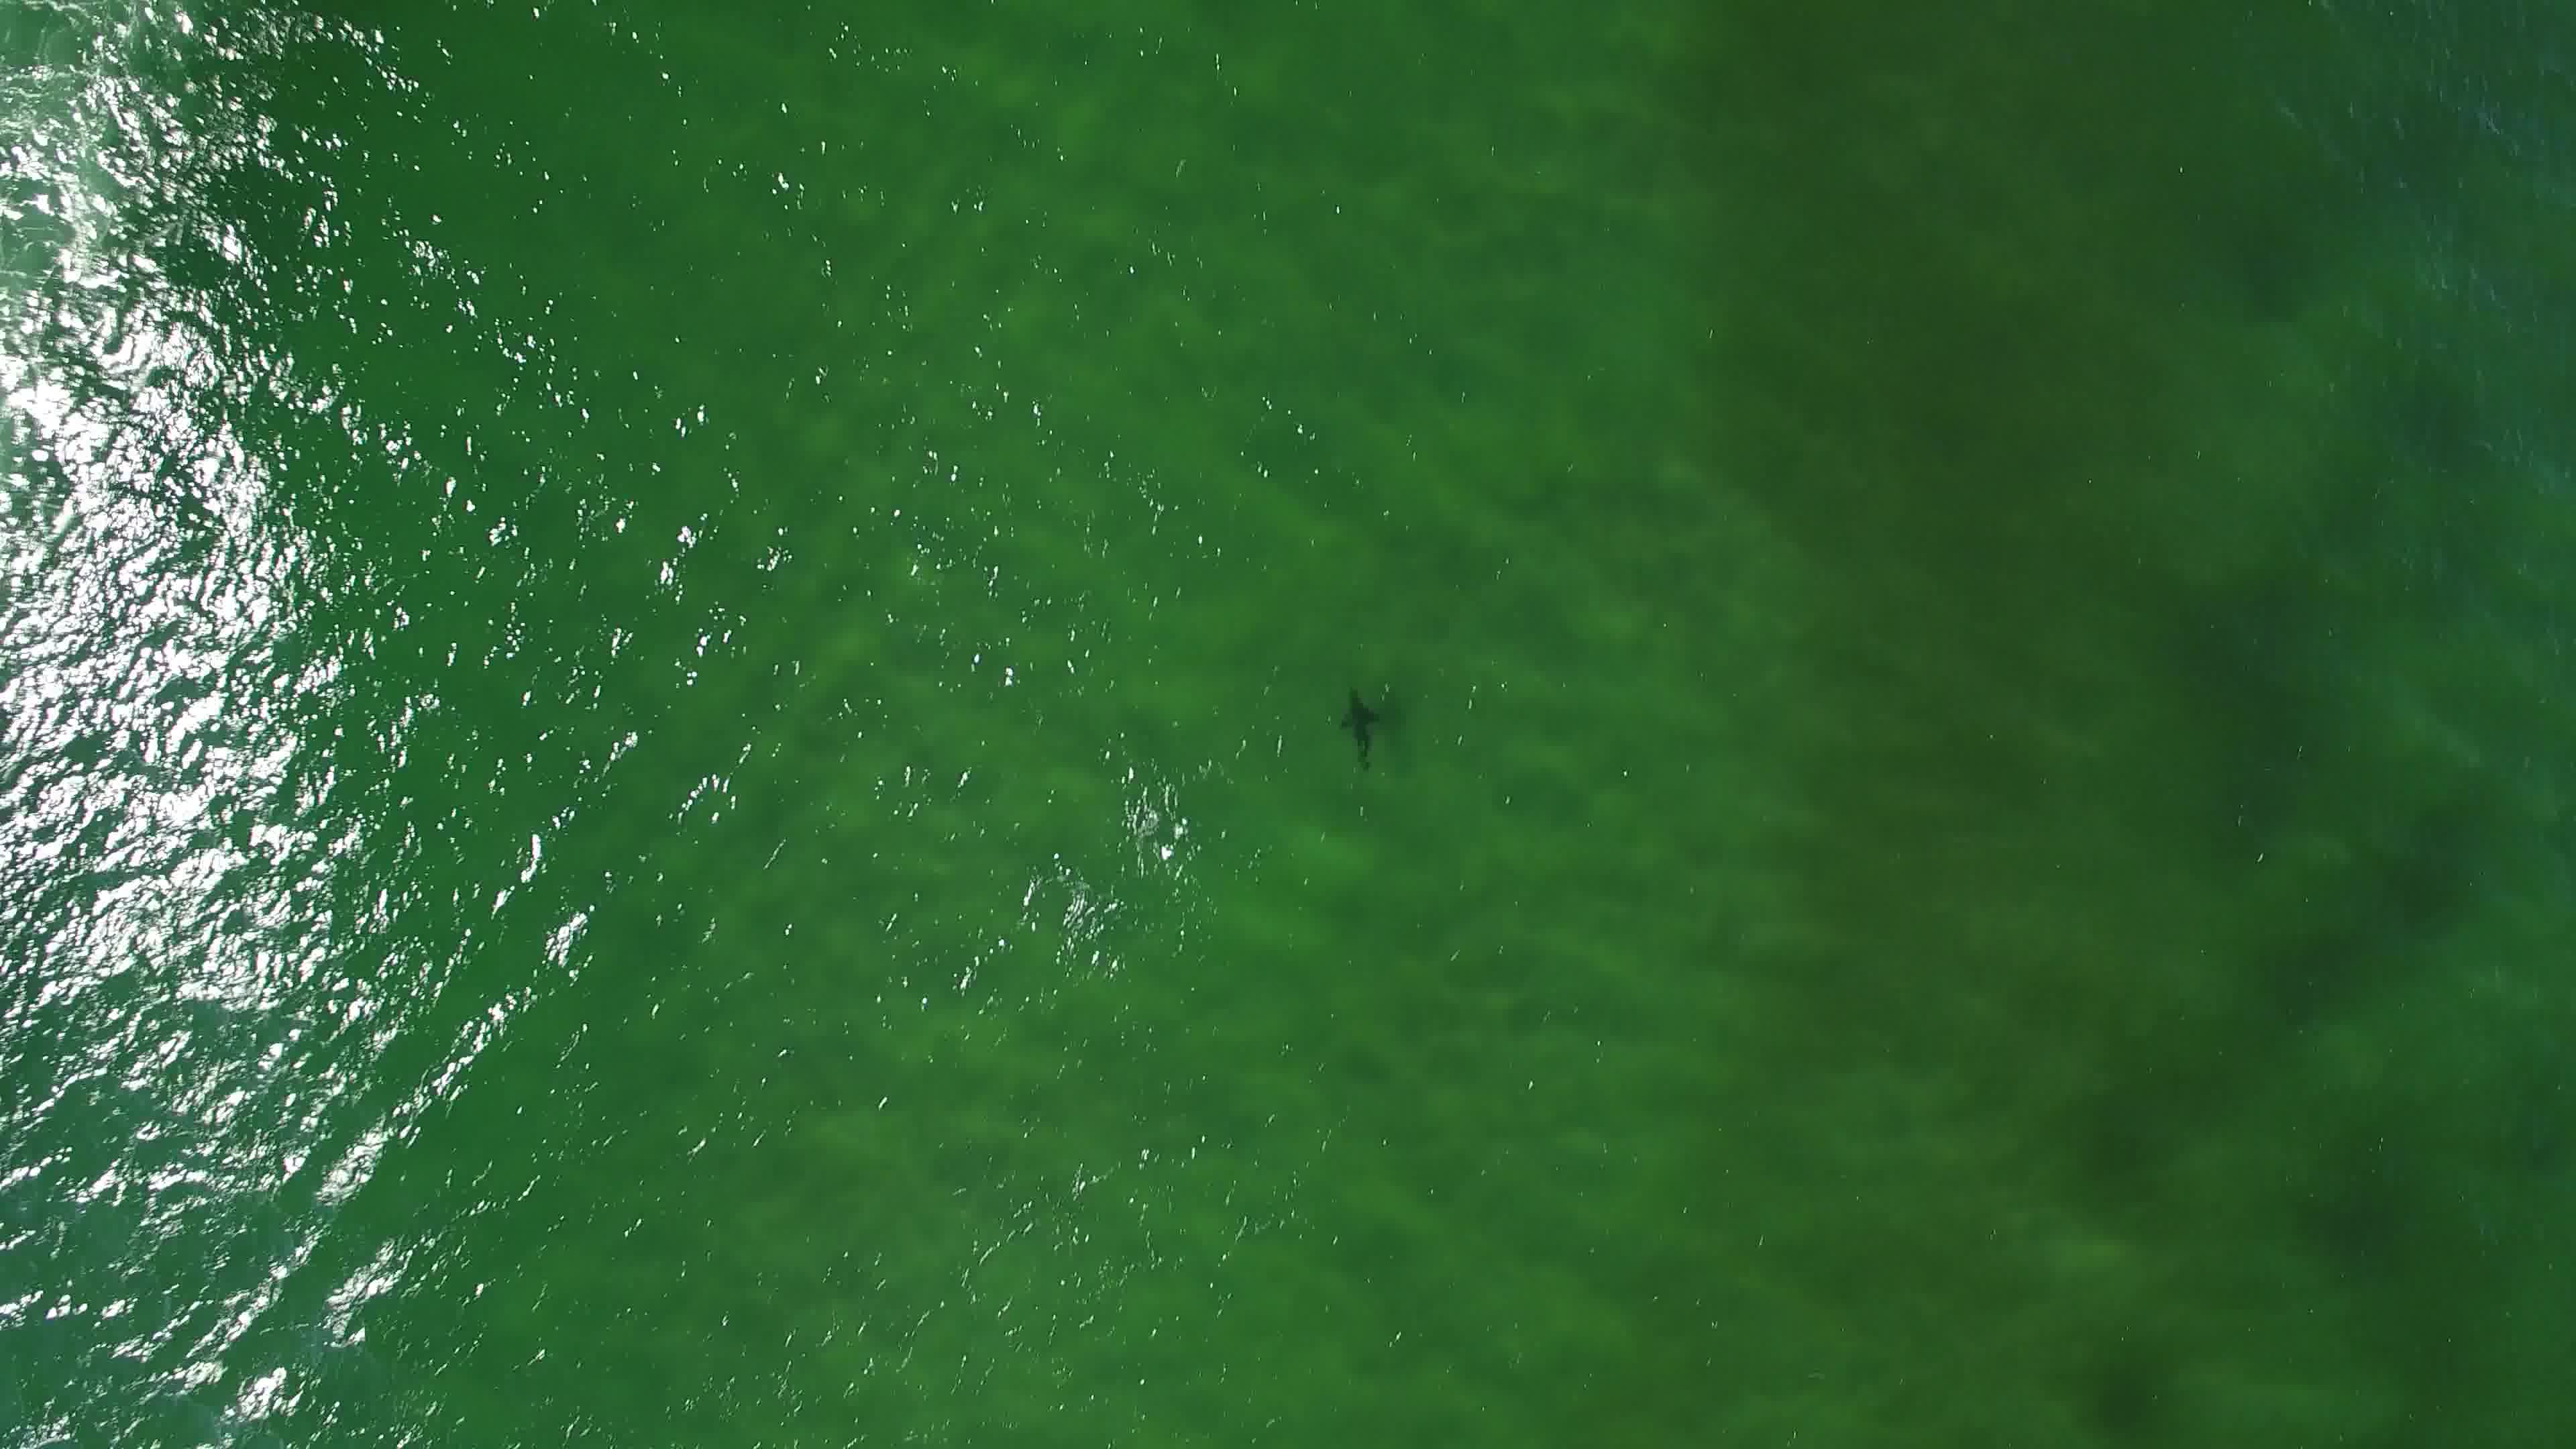shark: (1336, 686, 1384, 777)
